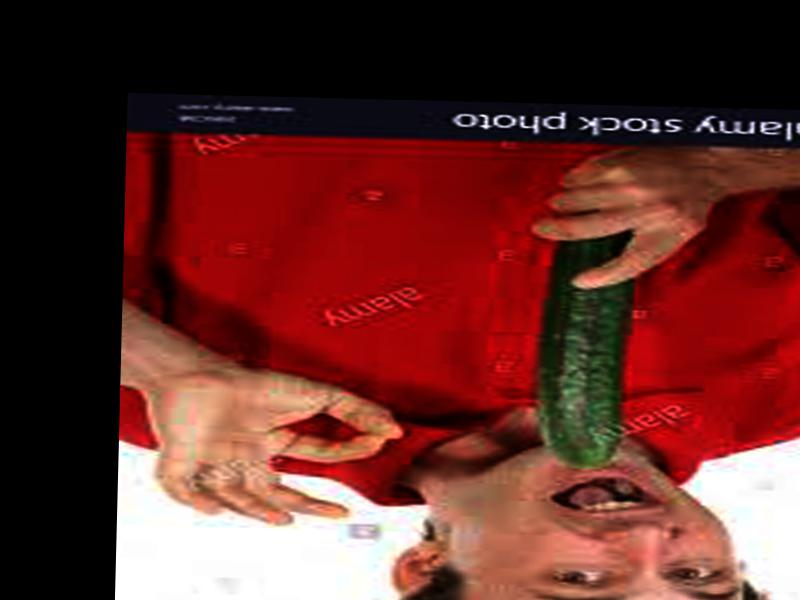Cucumber: (547, 233, 625, 467)
